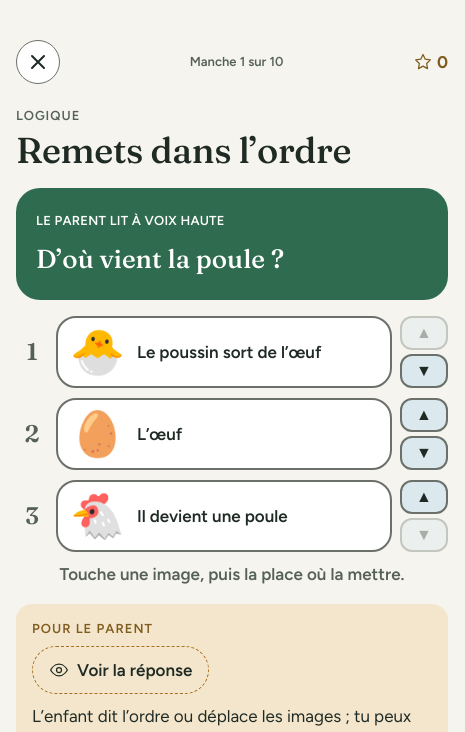
Remets dans l’ordre › au doigt : toucher une image puis sa place ; le parent valide
The image size is (465, 732).
Expected: the heading "Remets dans l’ordre" is shown, [16, 128, 351, 172]
Expected: the message reads "Touche une image, puis la place où la mettre.", [60, 564, 404, 584]
Note: L'ordre attendu est dans le bloc du parent.
Click the button "Voir la réponse" at (121, 670), box [32, 646, 209, 694]
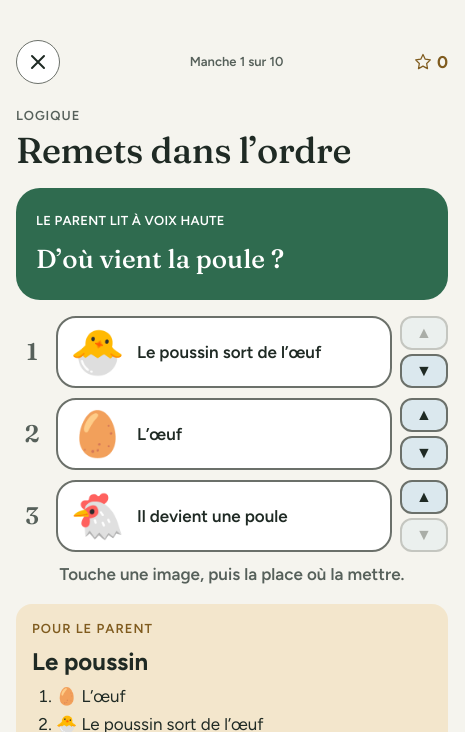
Click the button "🥚 L’œuf" at (97, 434), box [56, 398, 392, 470]
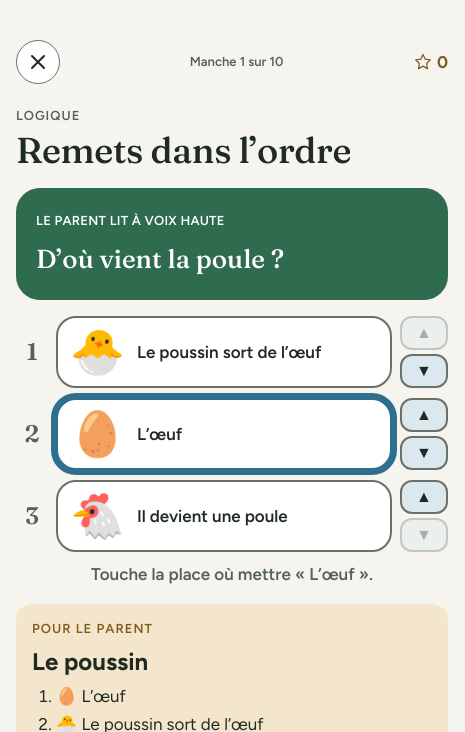
Click the button "🐣 Le poussin sort de l’œuf" at (224, 352), box [56, 316, 392, 388]
(page scrolled)
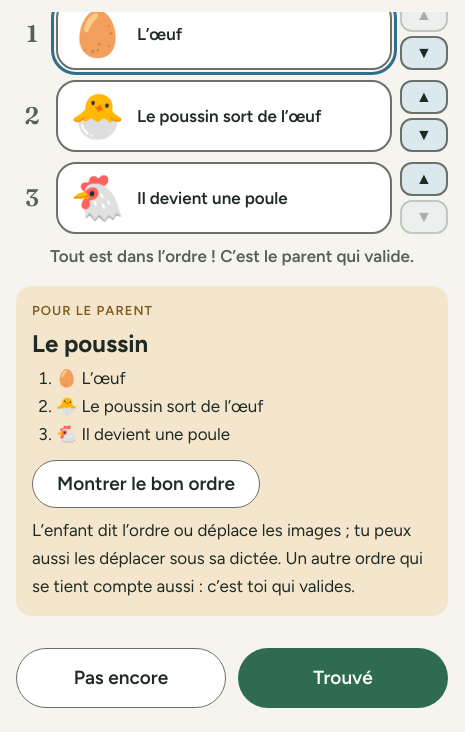
Result: the message shows "Tout est dans l’ordre !" at [50, 246, 414, 266]
Click the button "Trouvé" at (343, 678), box [238, 648, 448, 708]
(page scrolled)
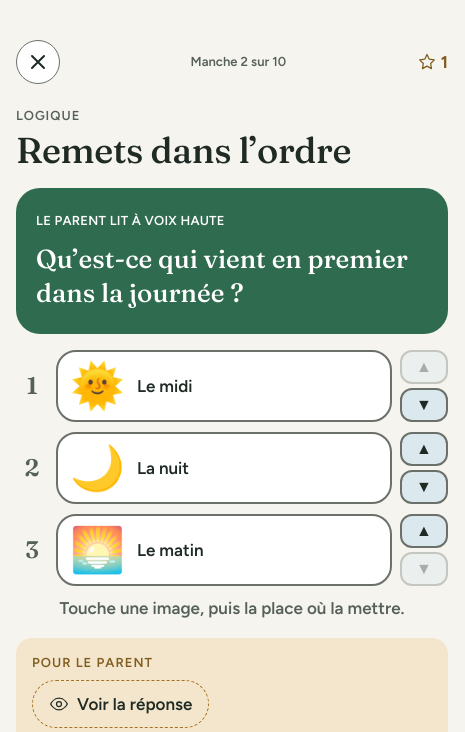
Result: the text "Manche 2 sur 10" is shown at [191, 53, 286, 71]
Result: the element named "1 étoile" is shown at [417, 48, 448, 76]
